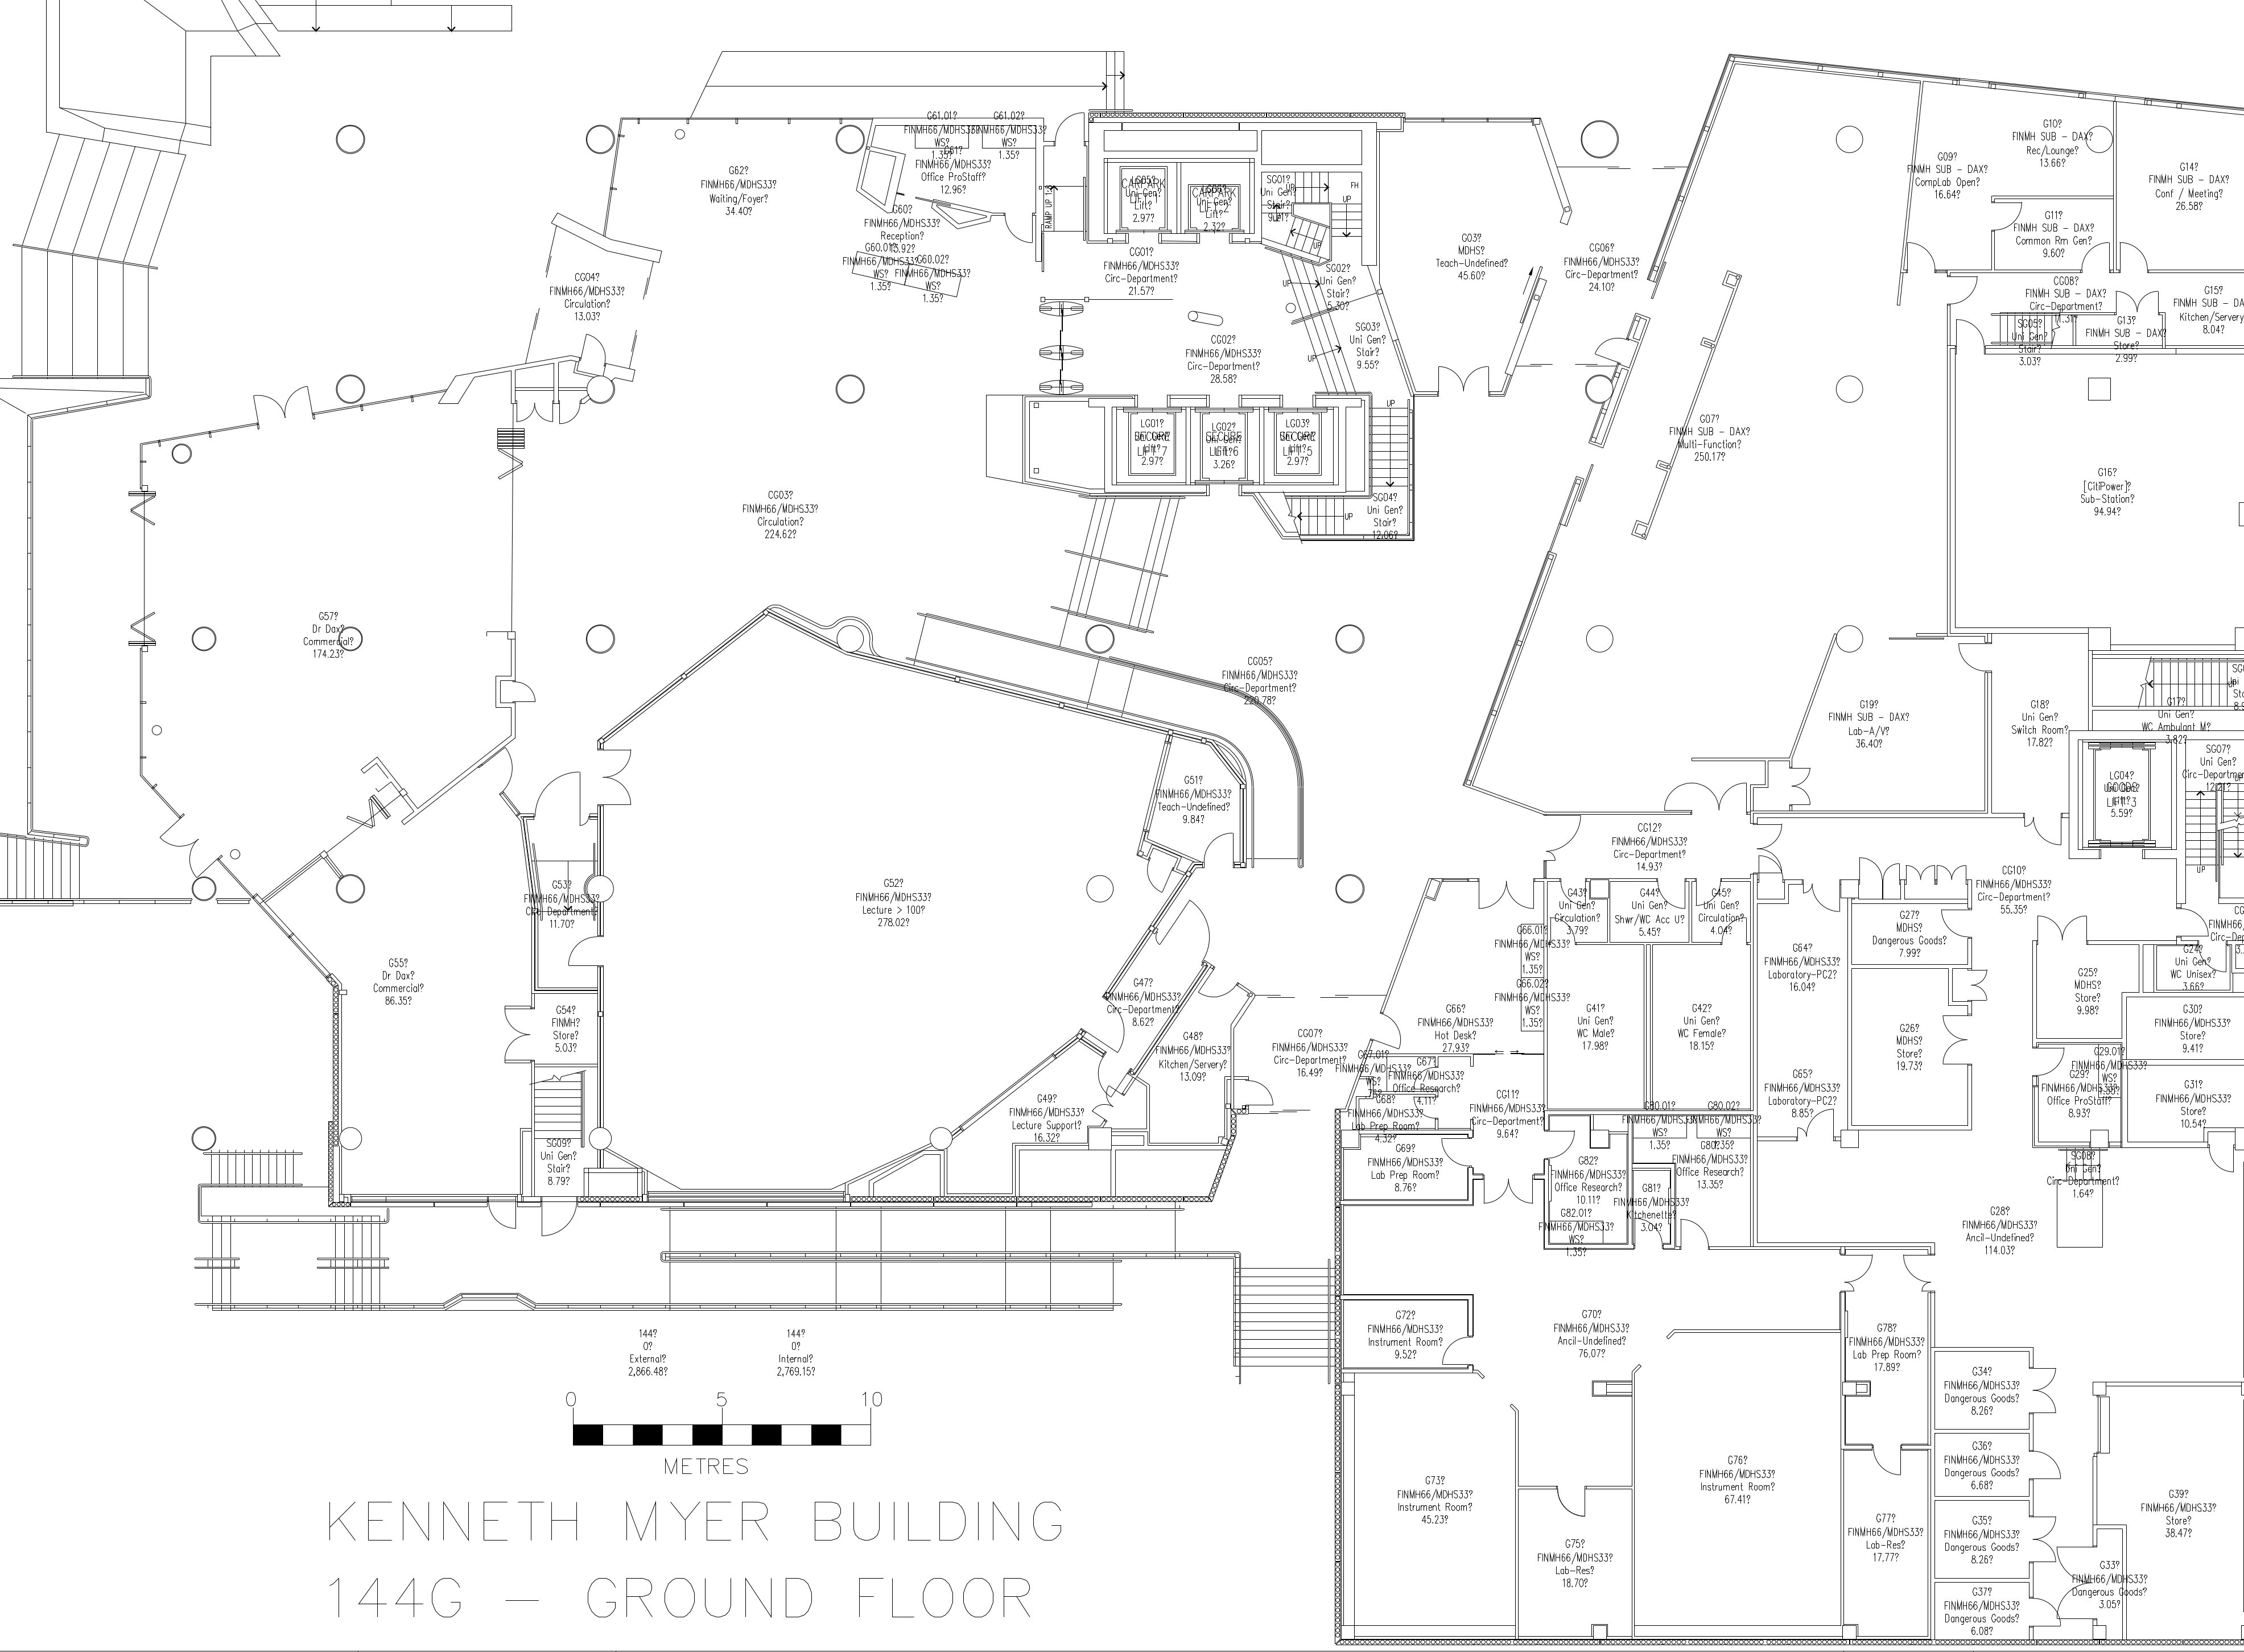door: (1160, 894, 1218, 958), (1659, 772, 1749, 812), (160, 819, 218, 878), (249, 380, 315, 429), (1082, 1002, 1132, 1054), (1542, 814, 1592, 863), (530, 767, 582, 814), (605, 748, 645, 809), (474, 744, 521, 789), (1476, 882, 1537, 917), (1753, 821, 1789, 875), (500, 1004, 531, 1065), (1483, 1173, 1535, 1209), (1936, 1011, 1969, 1068), (542, 1201, 577, 1249), (1436, 361, 1491, 390), (2035, 910, 2091, 939), (2035, 1363, 2063, 1417), (2033, 1441, 2066, 1486), (1857, 847, 1901, 880), (1375, 1014, 1413, 1051), (1002, 209, 1035, 247), (1052, 105, 1085, 143), (1800, 884, 1840, 915), (566, 931, 596, 972), (1793, 1108, 1836, 1136), (1951, 641, 1984, 678), (1197, 971, 1237, 1000), (1845, 1253, 1875, 1293), (2019, 819, 2061, 847), (1869, 1450, 1906, 1481), (2033, 1589, 2063, 1628), (1899, 1253, 1927, 1293), (1592, 329, 1626, 362), (578, 331, 610, 366), (1204, 826, 1235, 861), (2035, 1514, 2056, 1567), (1554, 1490, 1591, 1520), (514, 399, 552, 427), (1092, 1084, 1122, 1119), (2180, 906, 2211, 938), (1678, 1216, 1711, 1246), (1136, 868, 1171, 896), (488, 1201, 517, 1232), (2204, 1147, 2235, 1176), (1939, 906, 1967, 939), (1441, 1136, 1467, 1171), (1551, 1126, 1577, 1161), (1441, 1331, 1467, 1366), (2037, 1047, 2066, 1077), (1634, 1215, 1664, 1244), (1791, 765, 1812, 807), (517, 678, 544, 711), (1936, 859, 1967, 885), (1251, 1075, 1275, 1108), (1551, 915, 1580, 941), (1718, 915, 1747, 941), (1904, 861, 1936, 885), (558, 404, 582, 427), (578, 814, 589, 828)
